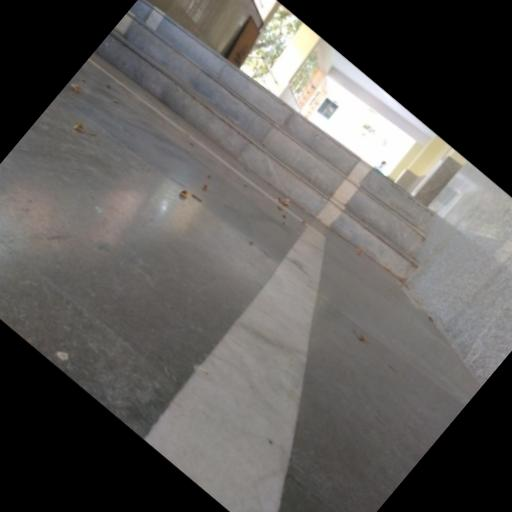stairs: (95, 0, 431, 281)
